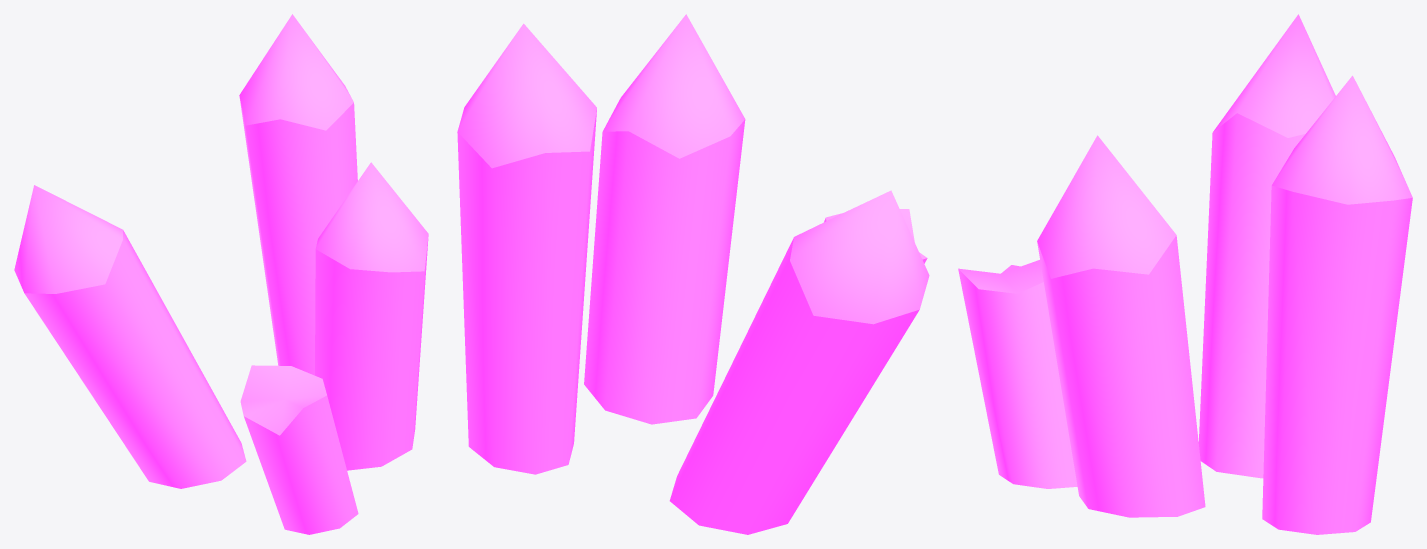
Rendered from cristal.fbx.
3 renders of one model, left to right at view 1: azimuth 30°, elevation 25°; view 2: azimuth 150°, elevation 25°; view 3: azimuth 270°, elevation 25°, orthographic. The views are drawn at different scales.
Parts seen in each view (by area): view 1: spikes; view 2: spikes; view 3: spikes.
Boxes of the visible parts, x1,y1,x2,y2 form: spikes: (14, 14, 428, 534); spikes: (457, 14, 929, 534); spikes: (958, 14, 1412, 534).
Size of the model in its own units: 14.44 by 15.49 by 13.44.
